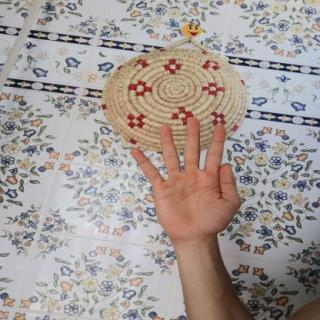SHEEN: (120, 110, 256, 245)
